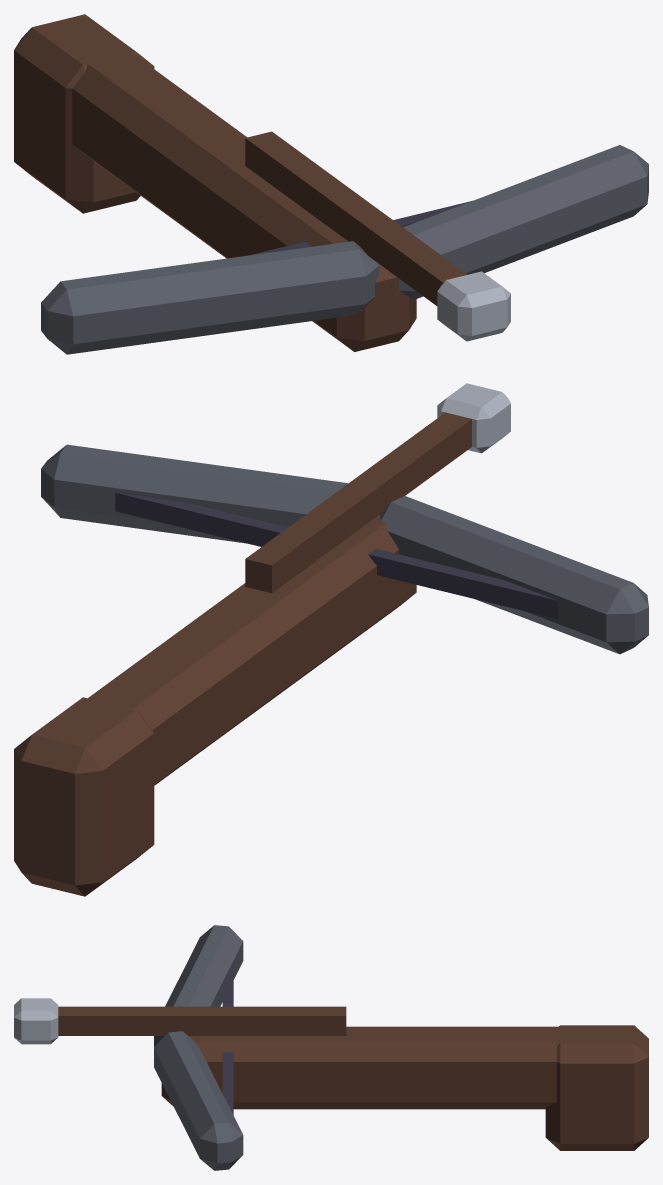
Rendered from Crossbow.fbx.
The picture shows the model from 3 angles, top to bottom: view 1: azimuth 30°, elevation 25°; view 2: azimuth 150°, elevation 25°; view 3: azimuth 270°, elevation 25°; orthographic projection. The views are drawn at different scales.
Visible parts, largest first — view 1: Crossbow__hand_R; view 2: Crossbow__hand_R; view 3: Crossbow__hand_R.
Boxes of the visible parts, x1,y1,x2,y2 form: Crossbow__hand_R: (14, 14, 648, 354); Crossbow__hand_R: (14, 383, 648, 896); Crossbow__hand_R: (14, 925, 648, 1170).
Bounding box in the file's own units: 0.6767 × 0.205 × 0.86.
